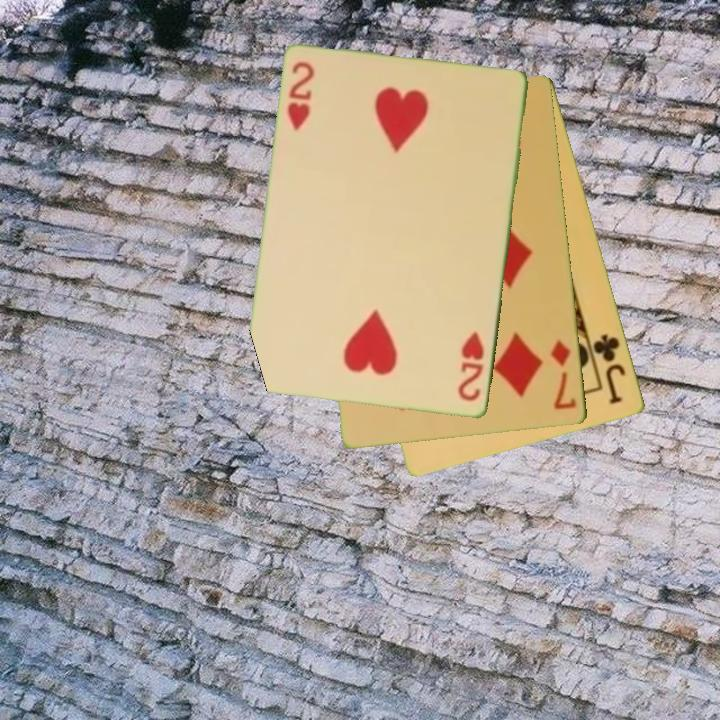2h: (454, 328, 488, 405), (284, 58, 318, 133)
7d: (548, 336, 580, 413)
Jc: (589, 330, 629, 407)
